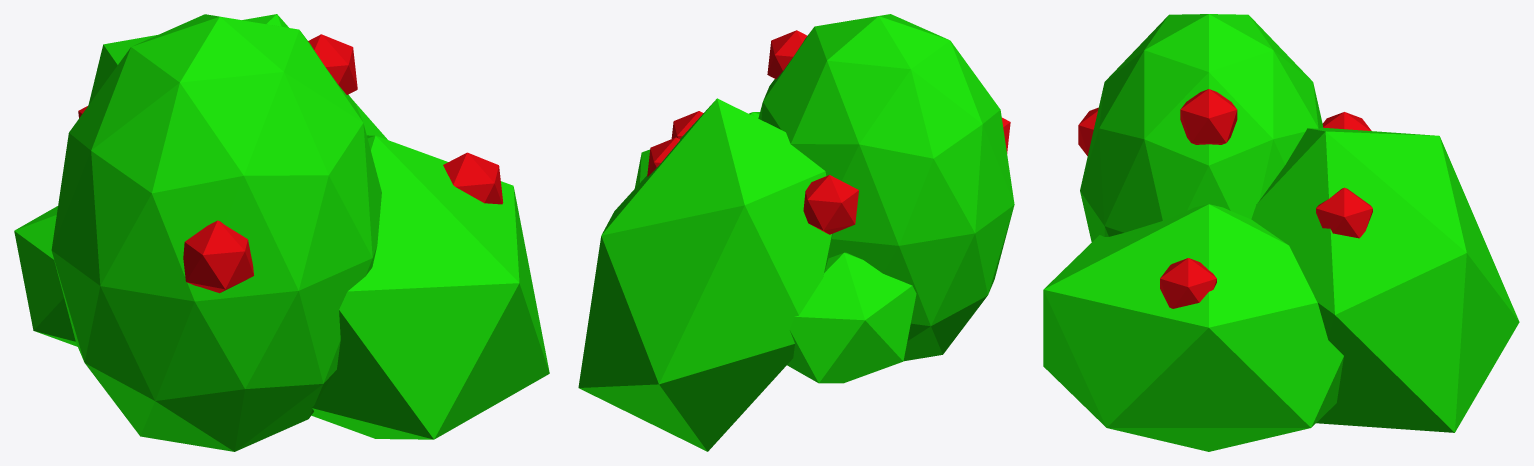
The model's file is bush.fbx.
3 renders of one model, left to right at view 1: azimuth 30°, elevation 25°; view 2: azimuth 150°, elevation 25°; view 3: azimuth 270°, elevation 25°, orthographic. The views are drawn at different scales.
Parts seen in each view (by area): view 1: Icosphere.002, Icosphere, Icosphere.007, Icosphere.008, Icosphere.005, Icosphere.001, Icosphere.003; view 2: Icosphere.001, Icosphere.002, Icosphere.007, Icosphere.006, Icosphere.003, Icosphere.004, Icosphere.005; view 3: Icosphere, Icosphere.001, Icosphere.002, Icosphere.003, Icosphere.005, Icosphere.004, Icosphere.006, Icosphere.008.
Part boxes in pixels (bbox=[...]): Icosphere.002: bbox=[51, 14, 381, 451]; Icosphere: bbox=[311, 135, 549, 439]; Icosphere.007: bbox=[14, 206, 77, 346]; Icosphere.008: bbox=[183, 220, 253, 293]; Icosphere.005: bbox=[443, 152, 503, 204]; Icosphere.001: bbox=[88, 14, 387, 139]; Icosphere.003: bbox=[308, 34, 357, 94]; Icosphere.001: bbox=[578, 98, 832, 451]; Icosphere.002: bbox=[758, 14, 1014, 361]; Icosphere.007: bbox=[787, 252, 916, 383]; Icosphere.006: bbox=[803, 175, 858, 234]; Icosphere.003: bbox=[767, 30, 806, 78]; Icosphere.004: bbox=[647, 137, 679, 176]; Icosphere.005: bbox=[671, 111, 703, 138]; Icosphere: bbox=[1043, 204, 1343, 451]; Icosphere.001: bbox=[1251, 127, 1519, 432]; Icosphere.002: bbox=[1080, 14, 1322, 242]; Icosphere.003: bbox=[1180, 89, 1237, 144]; Icosphere.005: bbox=[1160, 258, 1216, 308]; Icosphere.004: bbox=[1316, 187, 1372, 238]; Icosphere.006: bbox=[1322, 112, 1371, 130]; Icosphere.008: bbox=[1078, 107, 1098, 155].
Size of the model in its own units: 438 by 445 by 505.
